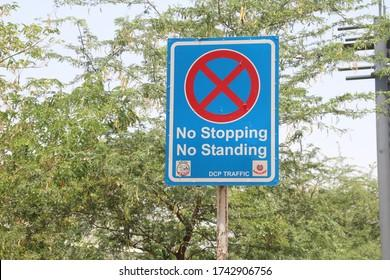No Stopping: (185, 41, 282, 142)
